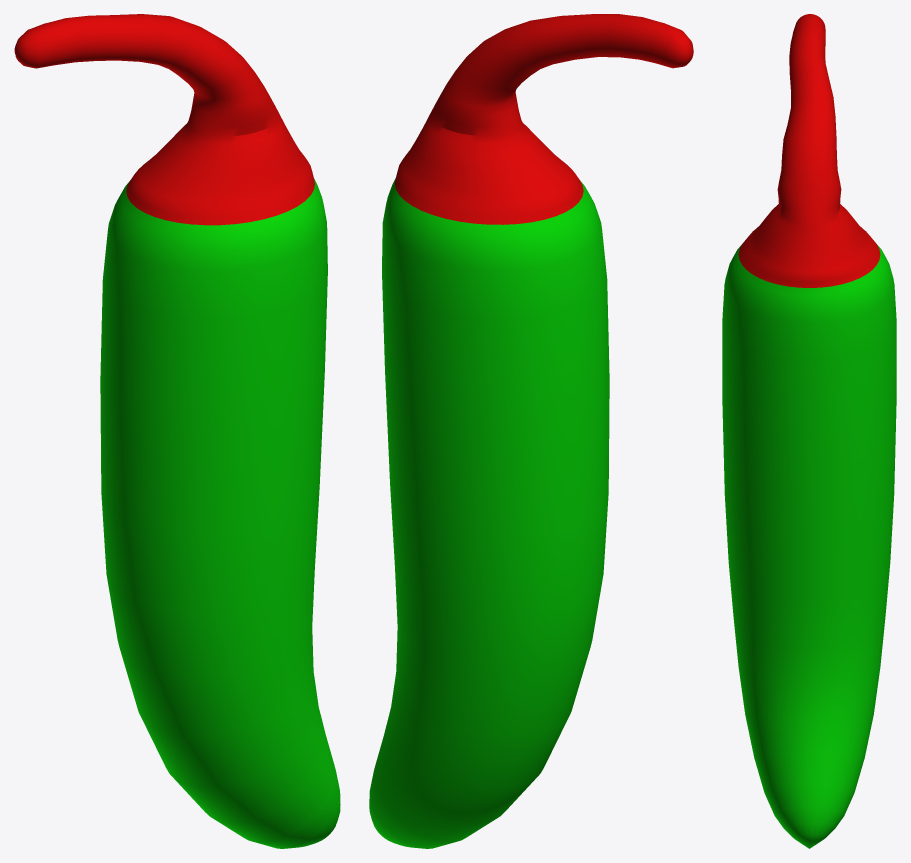
Rendered from Molopeno.fbx.
3 renders of one model, left to right at view 1: azimuth 30°, elevation 25°; view 2: azimuth 150°, elevation 25°; view 3: azimuth 270°, elevation 25°, orthographic. The views are drawn at different scales.
Parts seen in each view (by area): view 1: molopenoMesh; view 2: molopenoMesh; view 3: molopenoMesh.
Boxes of the visible parts, x1,y1,x2,y2 form: molopenoMesh: (14,14,340,848); molopenoMesh: (369,14,693,848); molopenoMesh: (722,14,896,848).
Size of the model in its own units: 37.03 by 97.75 by 21.47.
